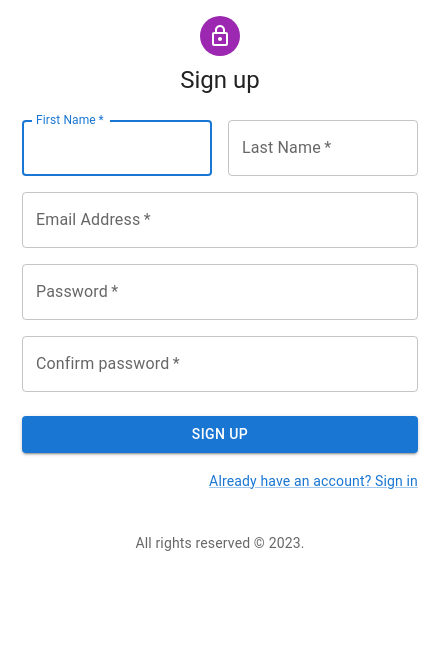
Test: Registration Page › account registration empty data validation
Click the submit button at (220, 435), box x1=22 y1=416 x2=418 y2=453
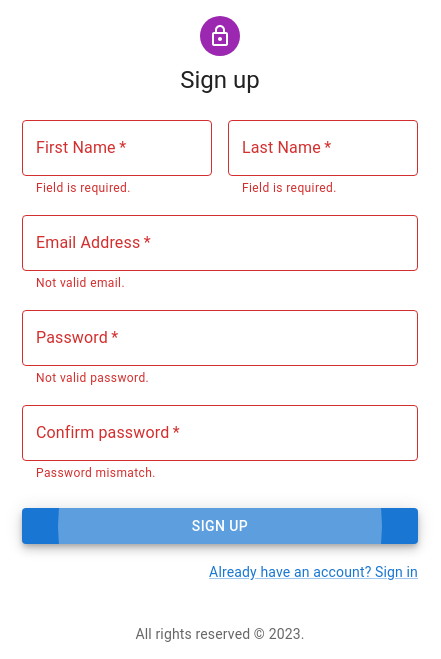
Expected: the text "Field is required." below "First Name" is shown, x1=36 y1=181 x2=131 y2=195
Expected: the text "Field is required." below "Last Name" is shown, x1=242 y1=181 x2=337 y2=195
Expected: the text "Not valid email." is shown, x1=36 y1=276 x2=125 y2=290
